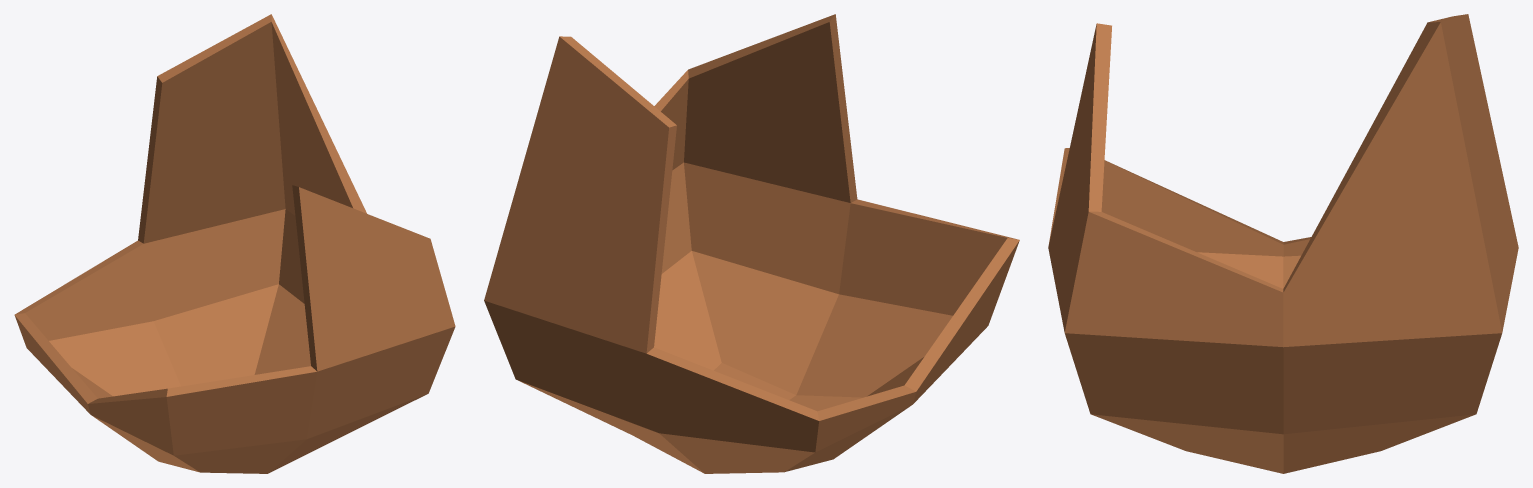
Rendered from eggShell03.fbx.
3 renders of one model, left to right at view 1: azimuth 30°, elevation 25°; view 2: azimuth 150°, elevation 25°; view 3: azimuth 270°, elevation 25°, orthographic. The views are drawn at different scales.
Visible parts, largest first — view 1: eggShell03; view 2: eggShell03; view 3: eggShell03.
Boxes of the visible parts, box(x1,y1,x2,y2) form: eggShell03: box(14, 14, 455, 473); eggShell03: box(484, 14, 1019, 473); eggShell03: box(1048, 14, 1518, 473).
Size of the model in its own units: 7.72 by 8.9 by 8.
Materials: 1 (1 with a texture image).
